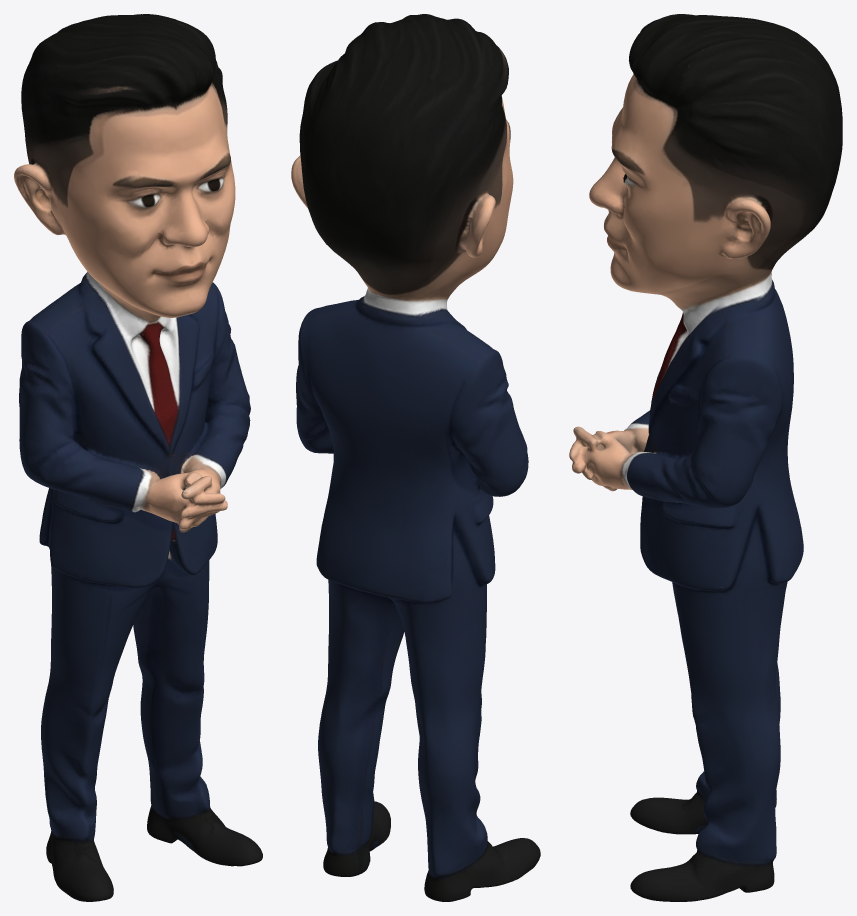
The model's file is eddy berdiri.glb.
3 renders of one model, left to right at view 1: azimuth 30°, elevation 25°; view 2: azimuth 150°, elevation 25°; view 3: azimuth 270°, elevation 25°, orthographic.
Bounding box in the file's own units: 0.5288 × 1.9 × 0.5654.
1 material, 1 textured.
